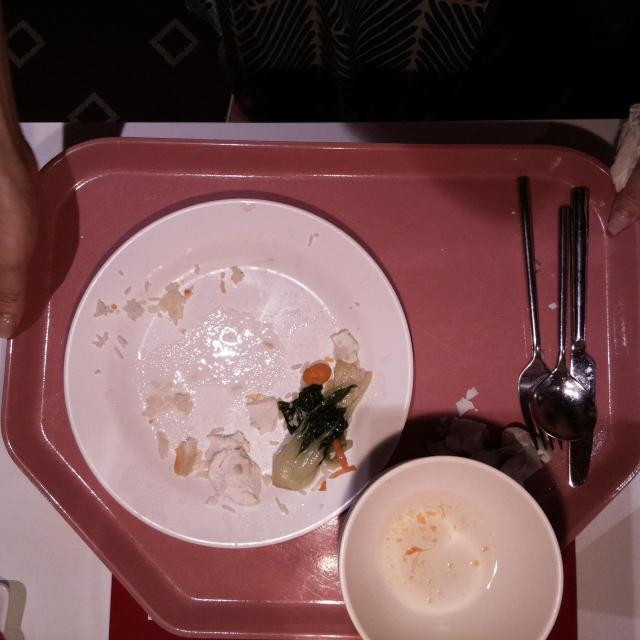Vegetable: (287, 384, 349, 457)
